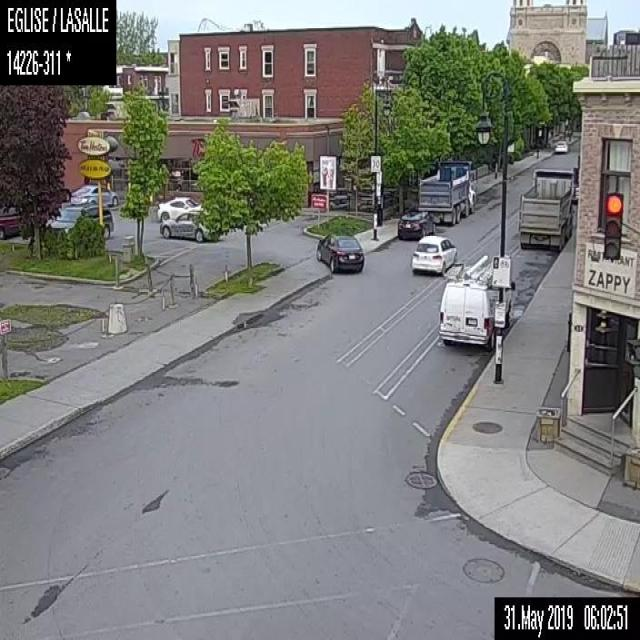vehicle: (436, 253, 516, 349), (516, 167, 576, 249), (417, 157, 478, 225), (48, 203, 113, 241), (314, 231, 362, 273), (409, 233, 457, 274), (159, 210, 217, 243), (156, 195, 202, 223), (70, 184, 118, 208), (396, 210, 436, 238), (0, 205, 29, 238), (553, 139, 567, 152)
